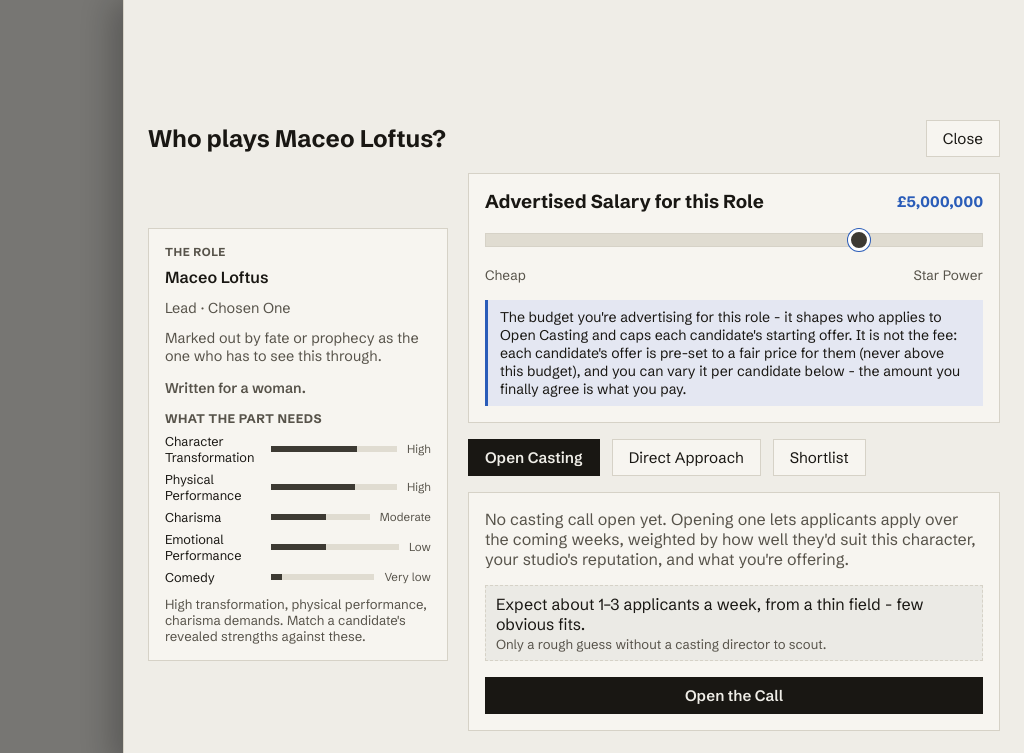
Test: CastingDrawer - discovery controls › shows scoutable actors regardless of price (the salary bar is only the offer), and a name search narrows
Step 1. Click the button "Direct Approach" → (686, 458), box 612,439 -> 761,476
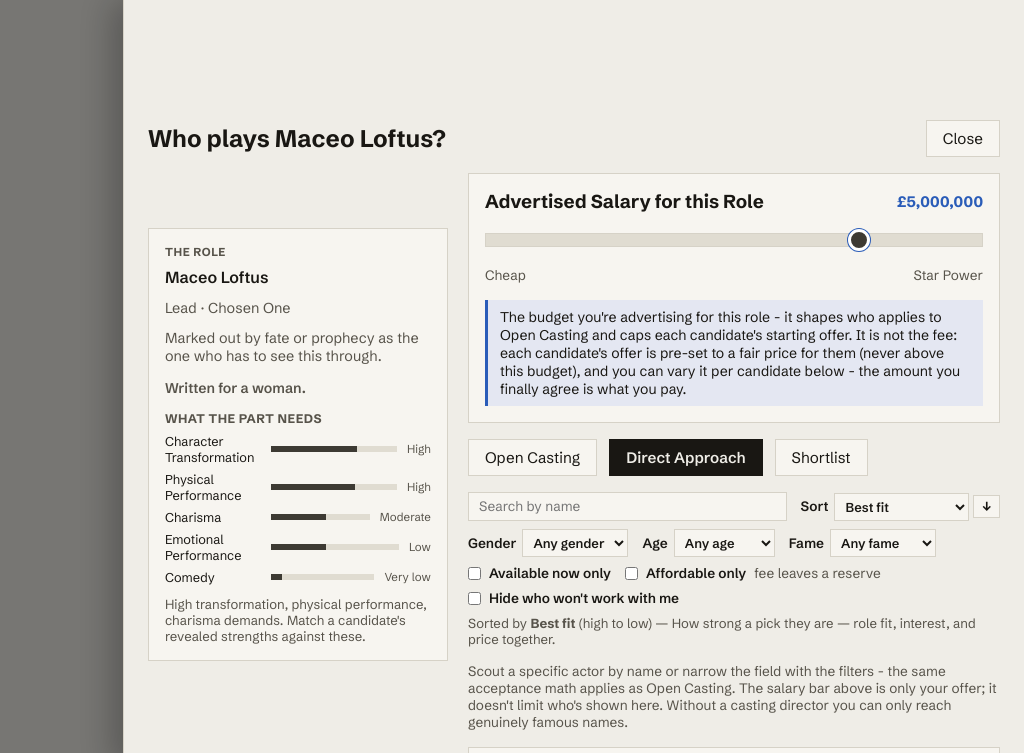
# A name search narrows the field to the match.
Step 2. Type "Far" into the search field named "Search candidates by name" → (627, 506), box 468,492 -> 787,521
(page scrolled)
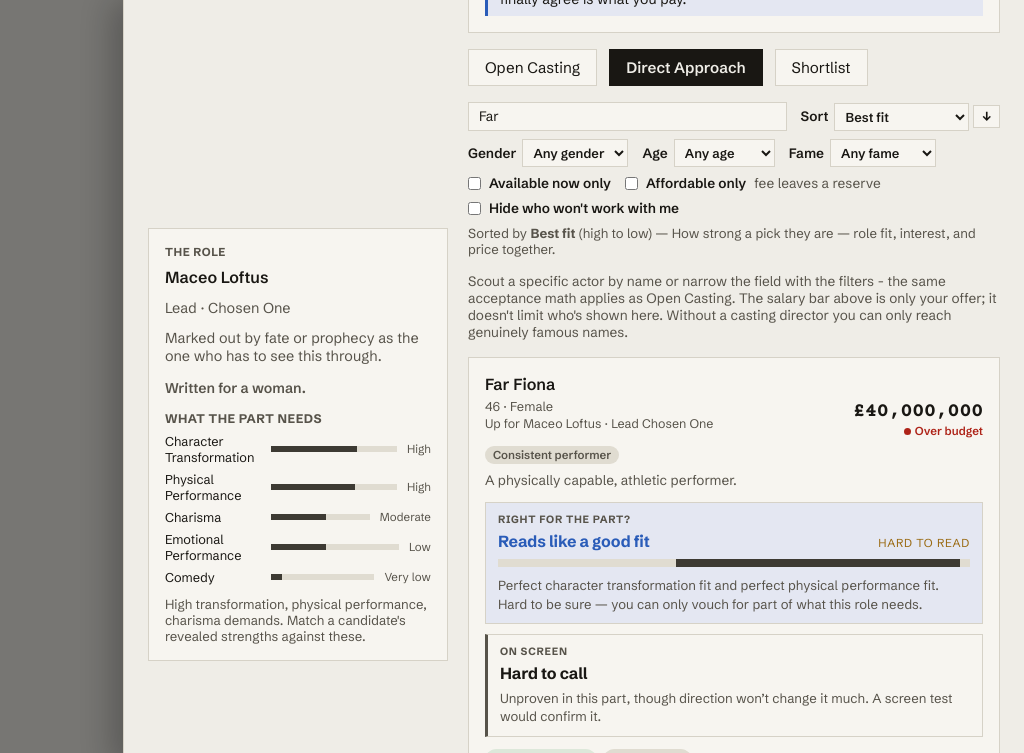
Expected: the text "Far Fiona" is shown, 485,374 -> 555,394
